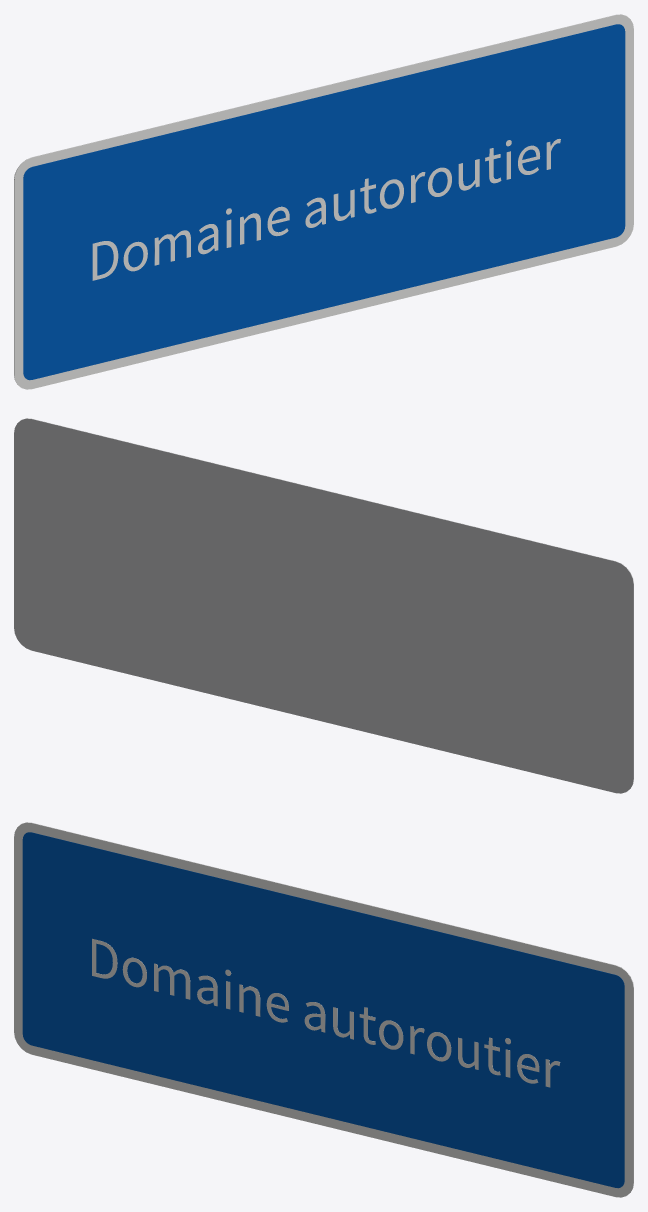
The picture shows the model from 3 angles, top to bottom: view 1: azimuth 30°, elevation 25°; view 2: azimuth 150°, elevation 25°; view 3: azimuth 330°, elevation 25°; orthographic projection.
Visible parts, largest first — view 1: E38_fond01, E38_cadre00, E38_txt02, E38_dos; view 2: E38_dos; view 3: E38_fond01, E38_cadre00, E38_txt02, E38_dos.
Part boxes in pixels (x1,y1,x2,y2): E38_fond01: (23,24,625,380); E38_cadre00: (14,14,633,389); E38_txt02: (92,139,560,280); E38_dos: (14,14,622,384); E38_dos: (14,418,633,793); E38_fond01: (22,832,624,1188); E38_cadre00: (14,822,633,1197); E38_txt02: (92,938,560,1087); E38_dos: (25,822,633,1192).
Size of the model in its own units: 1.4 by 0.5 by 0.0025.
